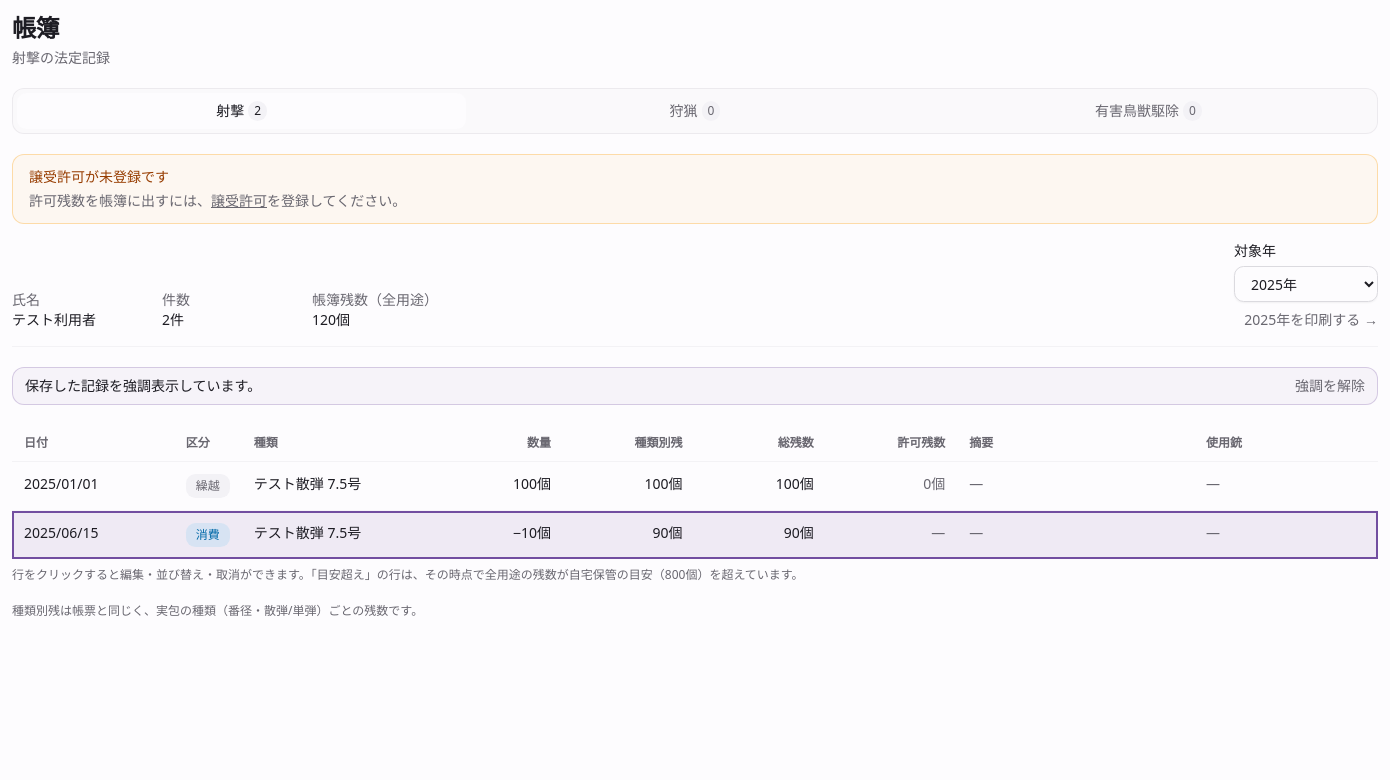
it: LedgerView › 強調表示は解除でき、解除しても開いていた年のまま
Click the button "強調を解除" at (1330, 386), box [1295,376,1365,396]
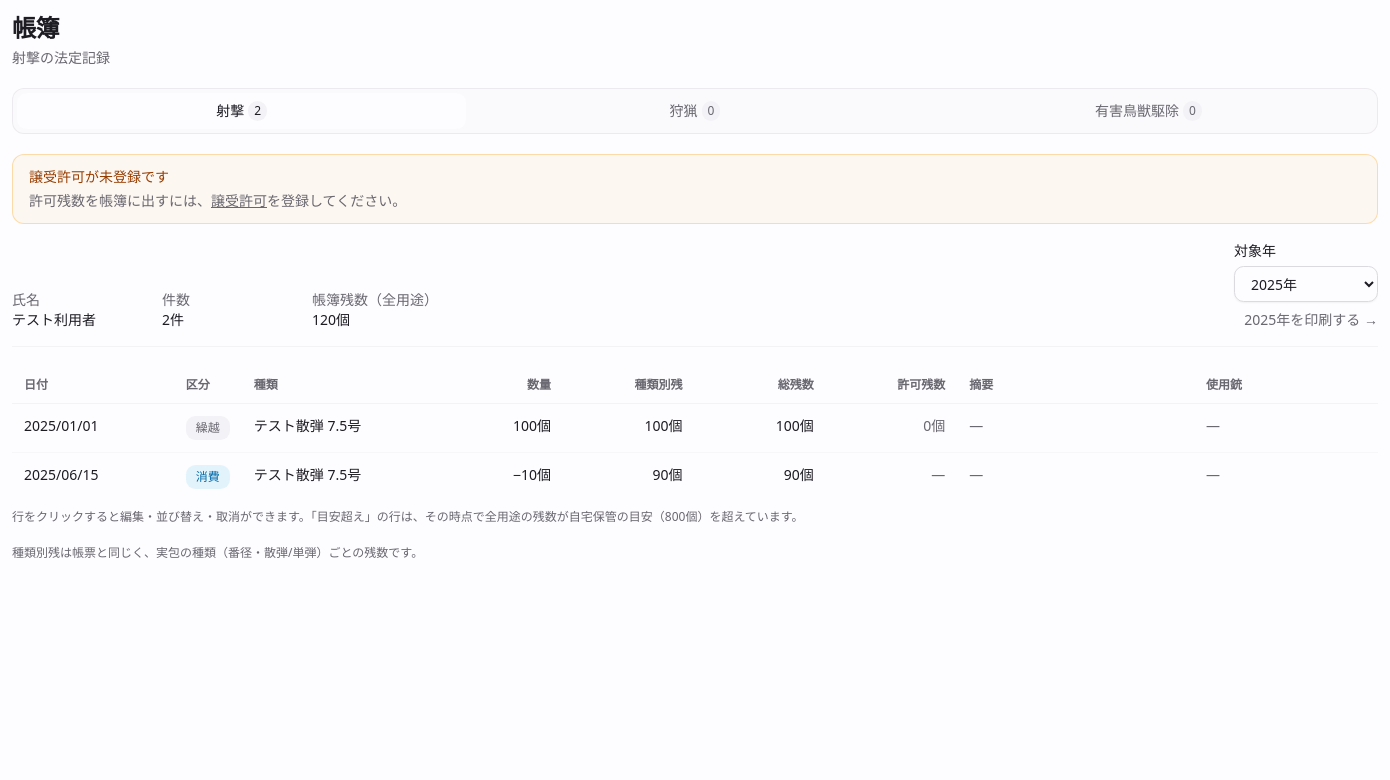
expect the text "強調表示" is gone: met
